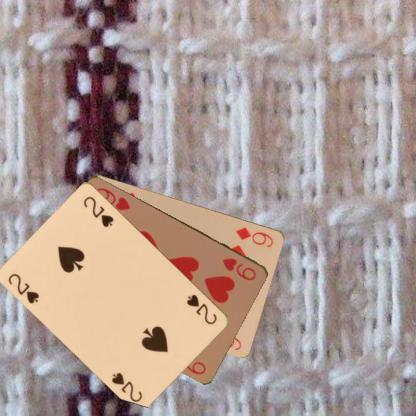2s: (6, 270, 41, 305), (184, 292, 219, 326)
6d: (233, 224, 275, 249)
9h: (220, 255, 259, 282)
